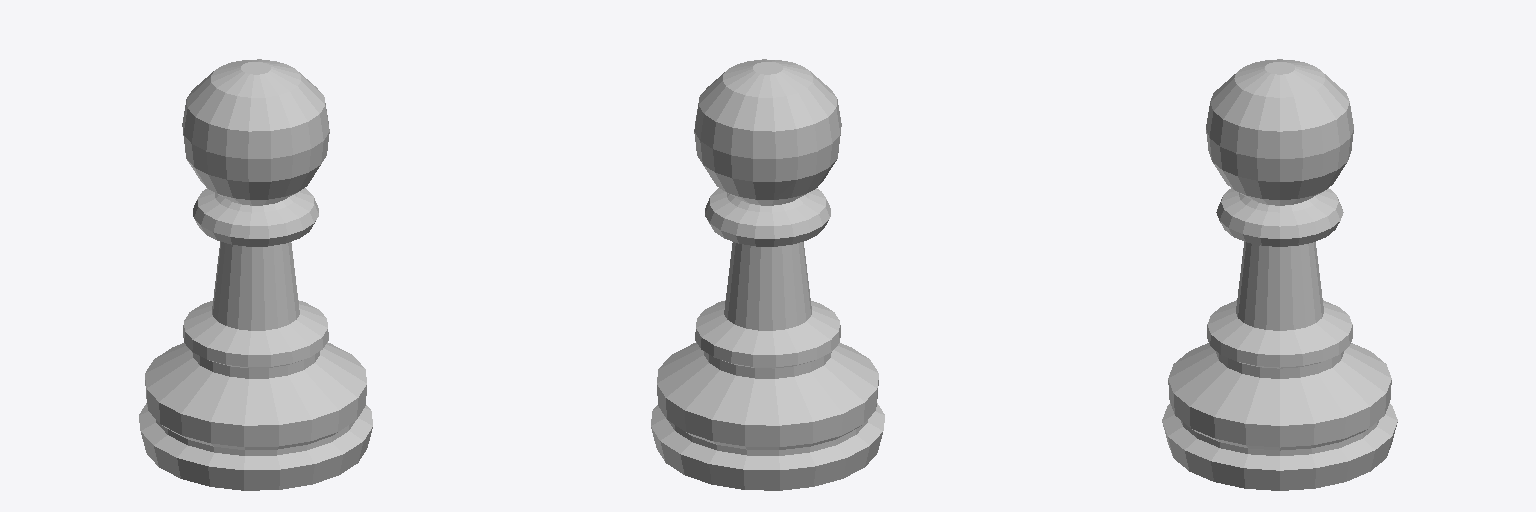
File: whiteSoldier.obj
The picture shows the model from 3 angles: view 1: azimuth 30°, elevation 25°; view 2: azimuth 150°, elevation 25°; view 3: azimuth 270°, elevation 25°; orthographic projection.
Visible parts, largest first — view 1: whiteSoldier:pCylinder13; view 2: whiteSoldier:pCylinder13; view 3: whiteSoldier:pCylinder13.
Boxes of the visible parts, <box> form: whiteSoldier:pCylinder13: <box>139,59,372,490</box>; whiteSoldier:pCylinder13: <box>651,59,884,490</box>; whiteSoldier:pCylinder13: <box>1162,59,1397,490</box>.
Bounding box in the file's own units: 4.04 × 7.1 × 4.04.